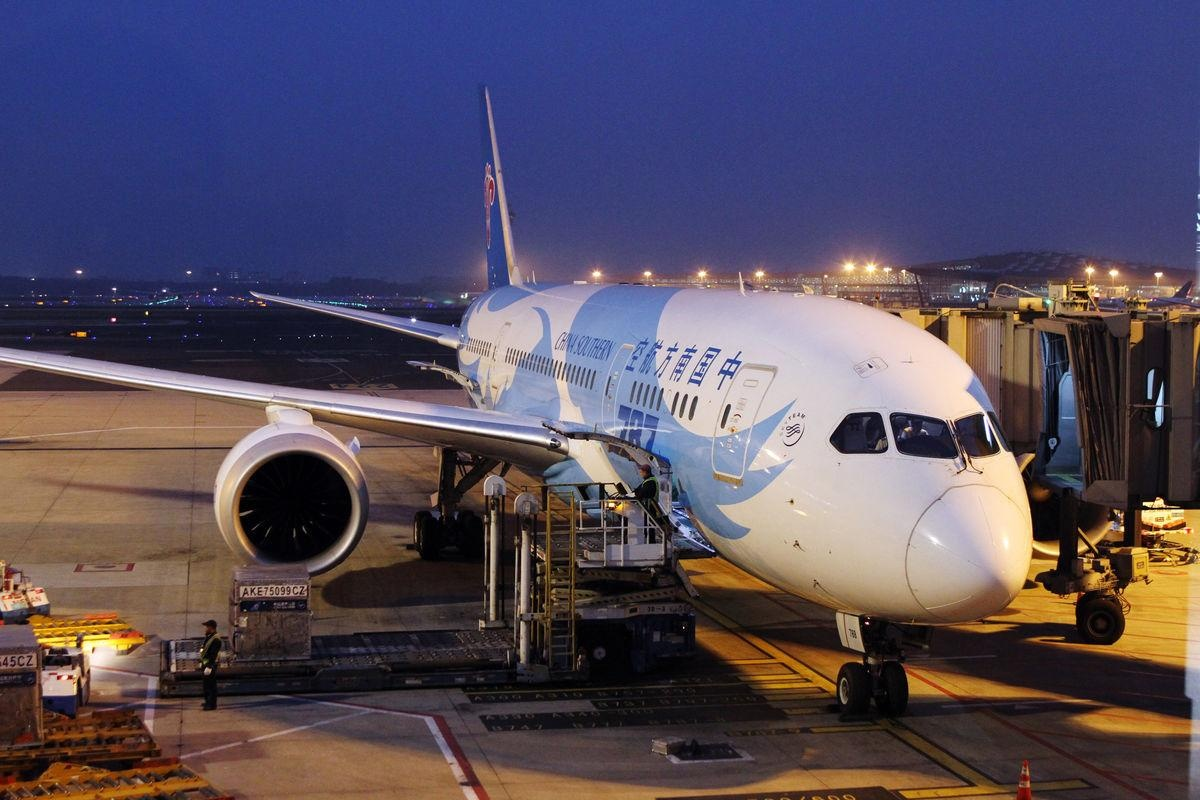airplane: (2, 83, 1046, 743)
